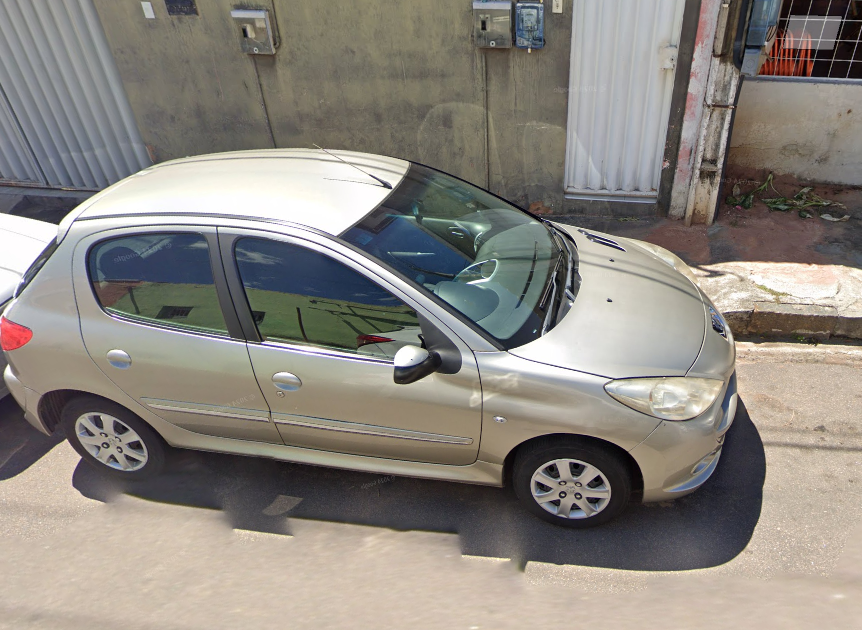car: (1, 128, 763, 560)
